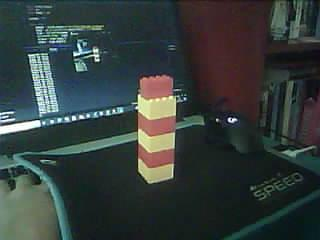lego: (138, 74, 177, 184)
